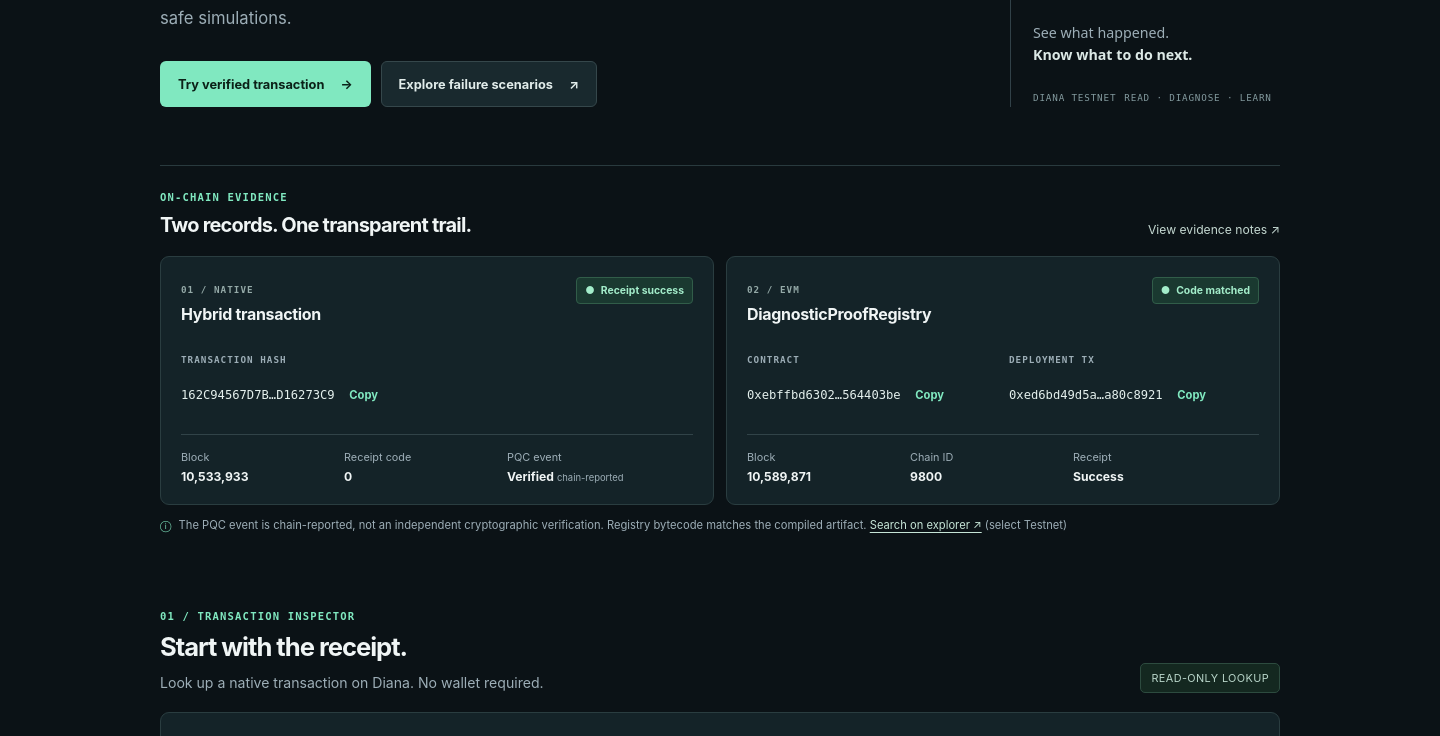
transaction workspace › copies the full contract address, not its shortened display
(page scrolled)
Click the button with aria-label "Copy contract address".
click(930, 395)  # box [908,373,952,417]
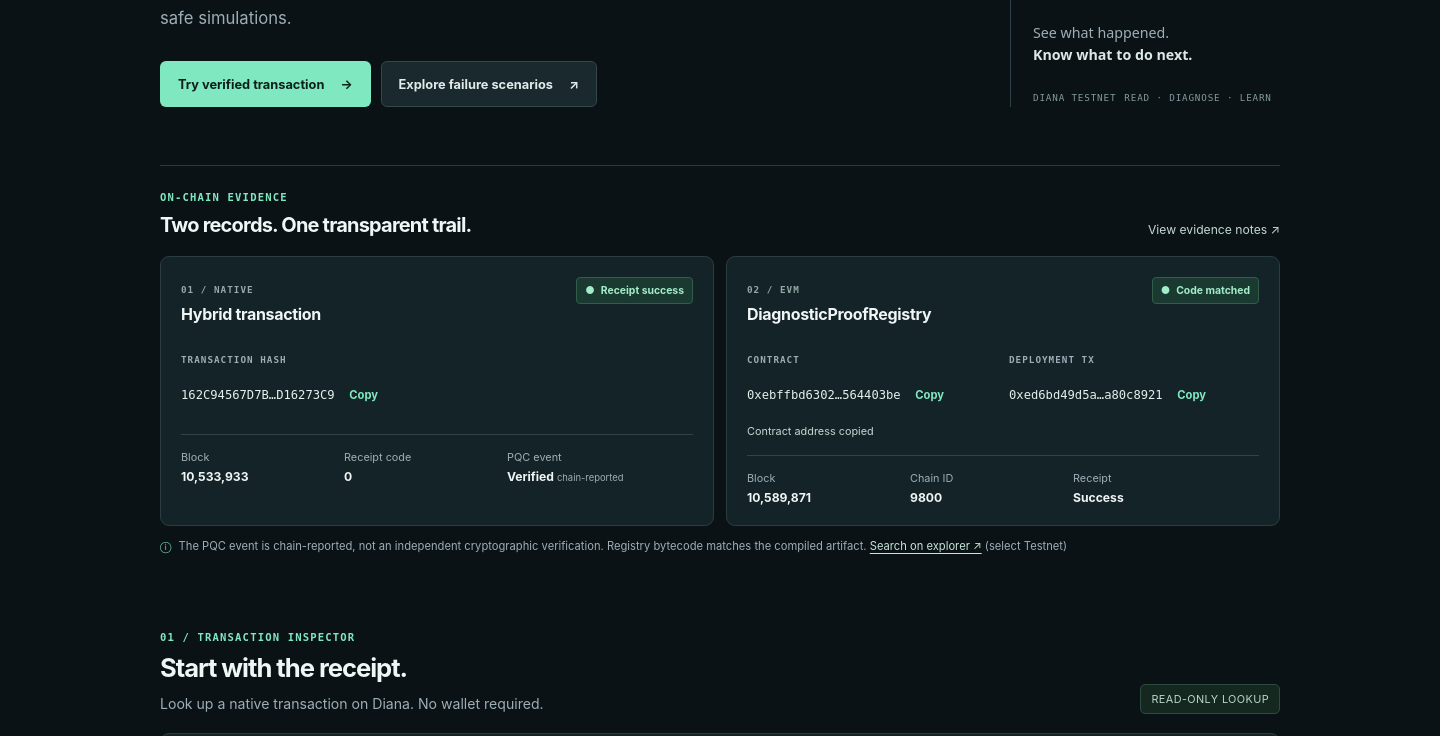
Check: the text "Contract address copied" is shown, box [747,424,874,438]
